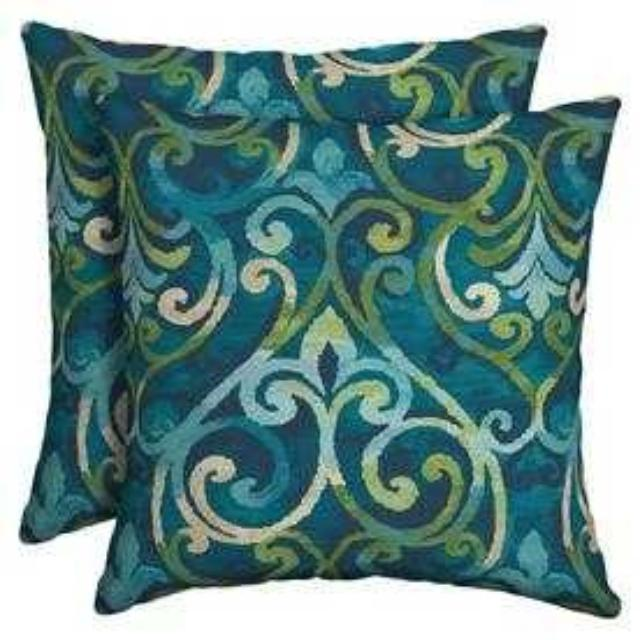pillow: (16, 19, 624, 619)
